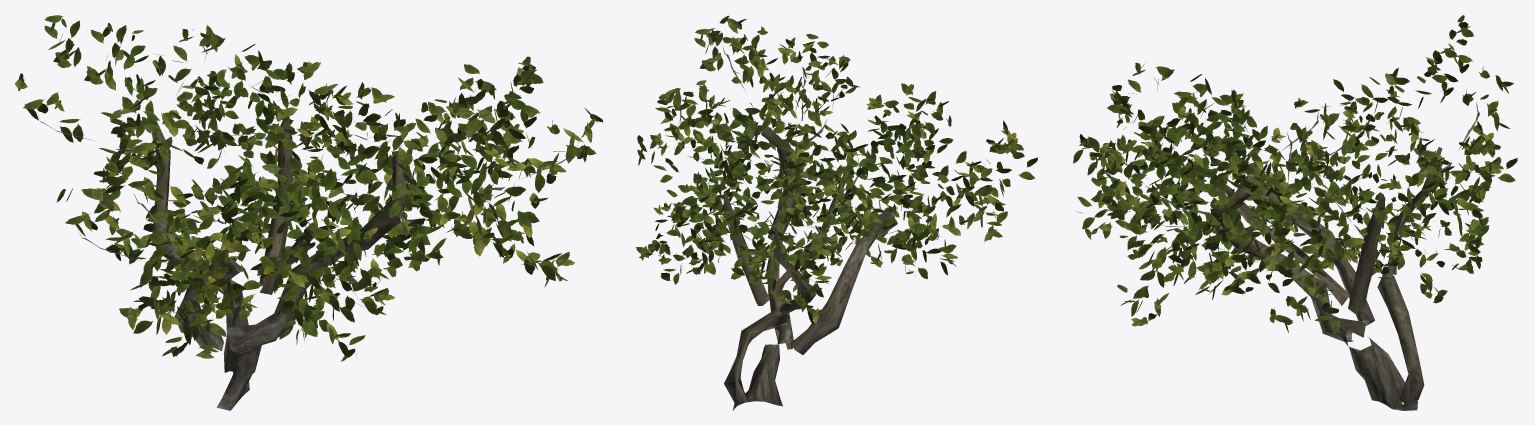
Rendered from ph_island_tree_02.glb.
The picture shows the model from 3 angles, left to right: view 1: azimuth 30°, elevation 25°; view 2: azimuth 150°, elevation 25°; view 3: azimuth 270°, elevation 25°; orthographic projection. The views are drawn at different scales.
Visible parts, largest first — view 1: island_tree_02_LOD0; view 2: island_tree_02_LOD0; view 3: island_tree_02_LOD0.
Part boxes in pixels (x1,y1,x2,y2): island_tree_02_LOD0: [14, 15, 603, 410]; island_tree_02_LOD0: [636, 15, 1037, 410]; island_tree_02_LOD0: [1073, 15, 1517, 410].
Bounding box in the file's own units: 3.88 × 3.36 × 4.15.
3 materials, 3 textured.
